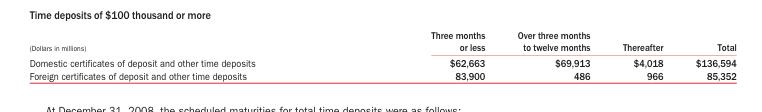table: (28, 28, 735, 81)
table column: (28, 28, 342, 81), (342, 28, 500, 81), (500, 28, 605, 81), (605, 28, 678, 81), (678, 28, 735, 81)
table column header: (28, 28, 735, 54)
table row: (28, 28, 735, 54), (28, 54, 735, 69), (28, 69, 735, 81)
